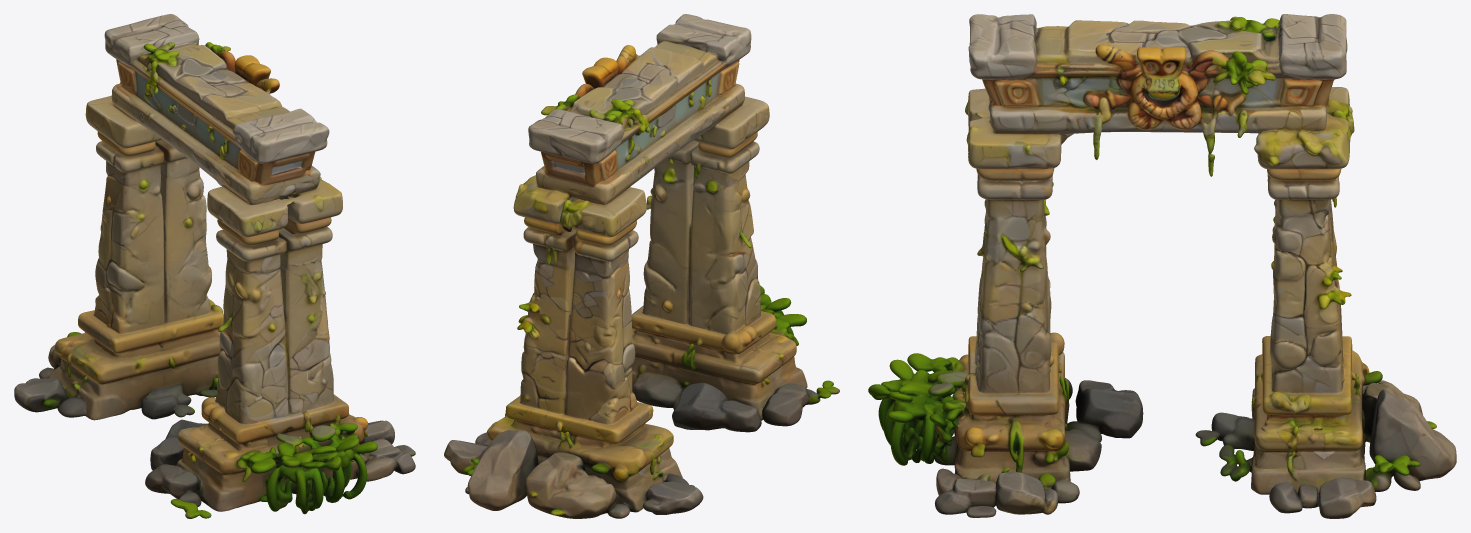
File: slide-doorway.glb
3 renders of one model, left to right at view 1: azimuth 30°, elevation 25°; view 2: azimuth 150°, elevation 25°; view 3: azimuth 270°, elevation 25°, orthographic. The views are drawn at different scales.
Visible parts, largest first — view 1: tripo_node_1ef97f8b-076e-438c-a695-d8389fb1e442; view 2: tripo_node_1ef97f8b-076e-438c-a695-d8389fb1e442; view 3: tripo_node_1ef97f8b-076e-438c-a695-d8389fb1e442.
Part boxes in pixels (box(x1,y1,x2,y2)): tripo_node_1ef97f8b-076e-438c-a695-d8389fb1e442: box(14, 14, 415, 518); tripo_node_1ef97f8b-076e-438c-a695-d8389fb1e442: box(444, 14, 839, 518); tripo_node_1ef97f8b-076e-438c-a695-d8389fb1e442: box(868, 14, 1456, 518).
Bounding box in the file's own units: 0.5846 × 0.8039 × 1.
Materials: 1 (1 with a texture image).
